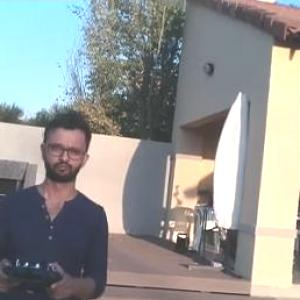follow: (0, 109, 122, 299)
